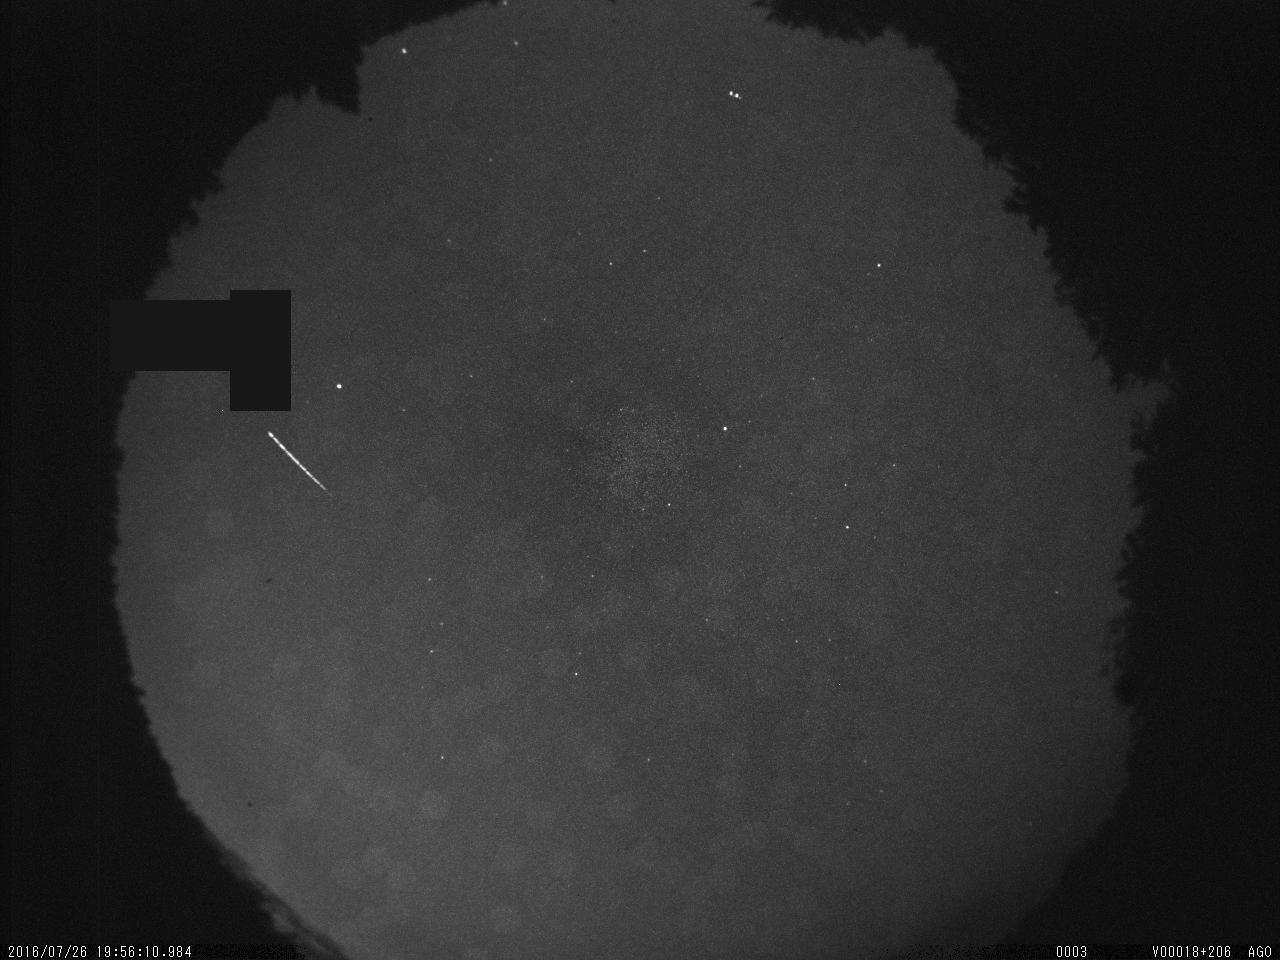meteor: (262, 427, 334, 501)
